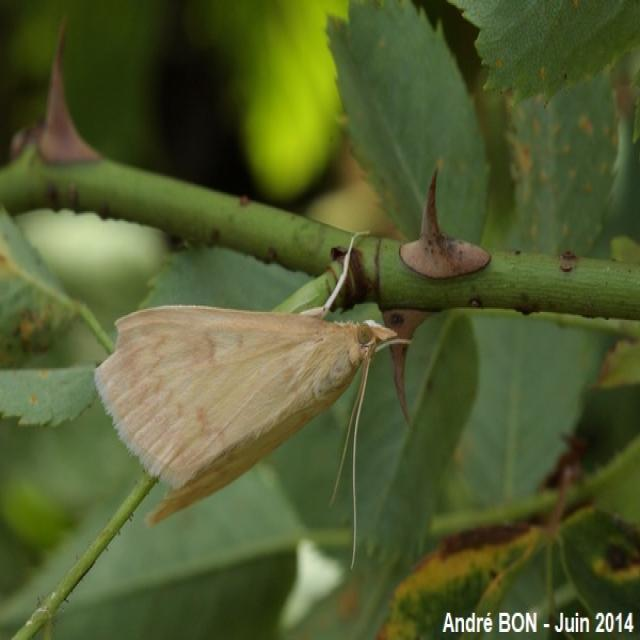cornborer-Adult-: (98, 277, 426, 518)
